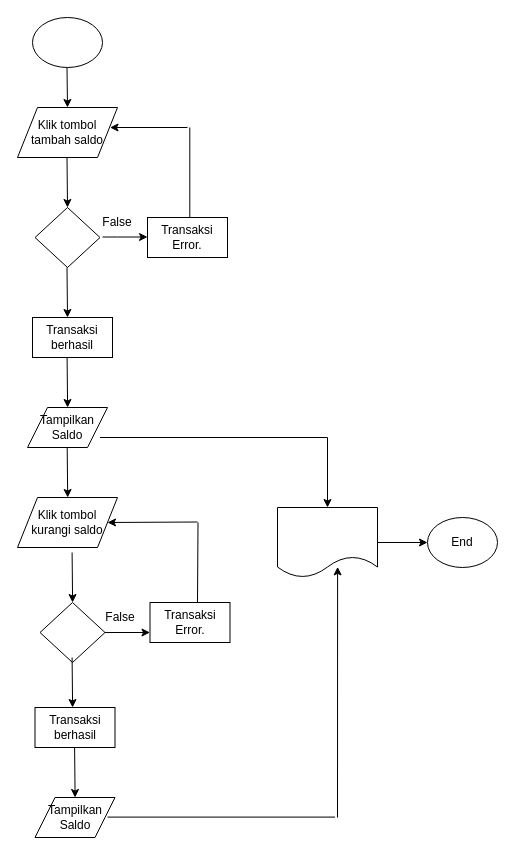
Image size: 515x855. Some labels were removed from this diagram. Each missing label, with the centre of its shape:
Deposit: point 67,237
Print: point 327,542
Start: point 67,42
Withdraw: point 72,632
